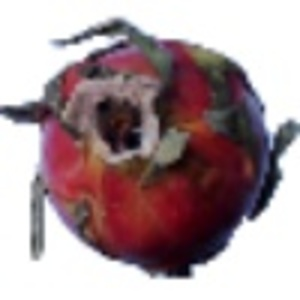pitaia: (1, 17, 300, 281)
